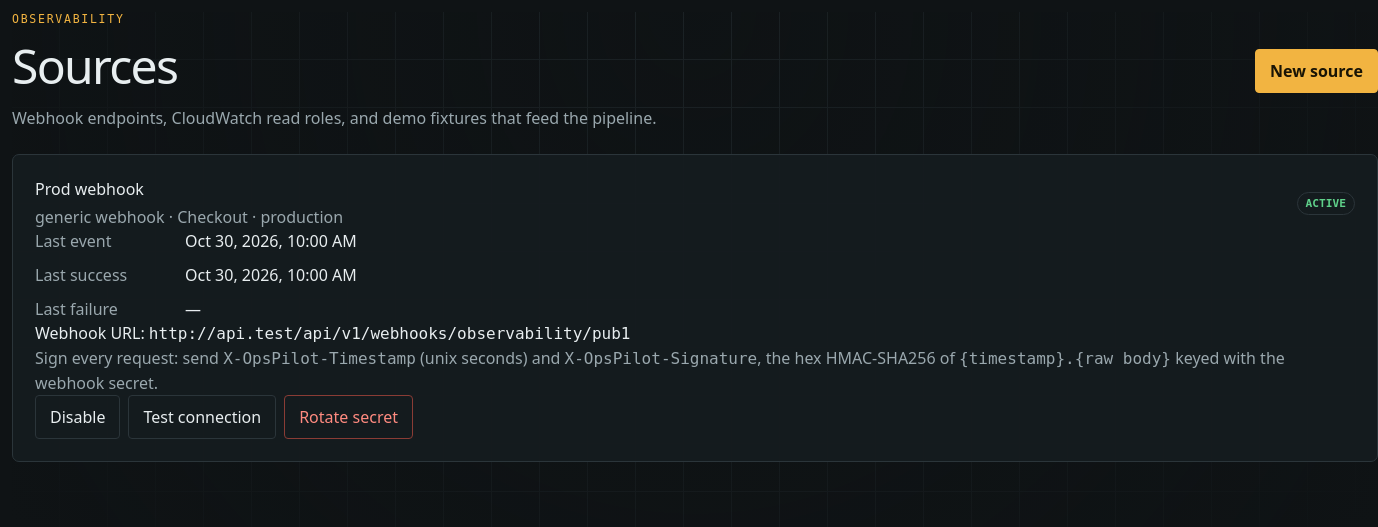
Test: source management › shows ok connectivity result
Click the button "Test connection".
click(202, 417)  # box x1=128 y1=395 x2=276 y2=439
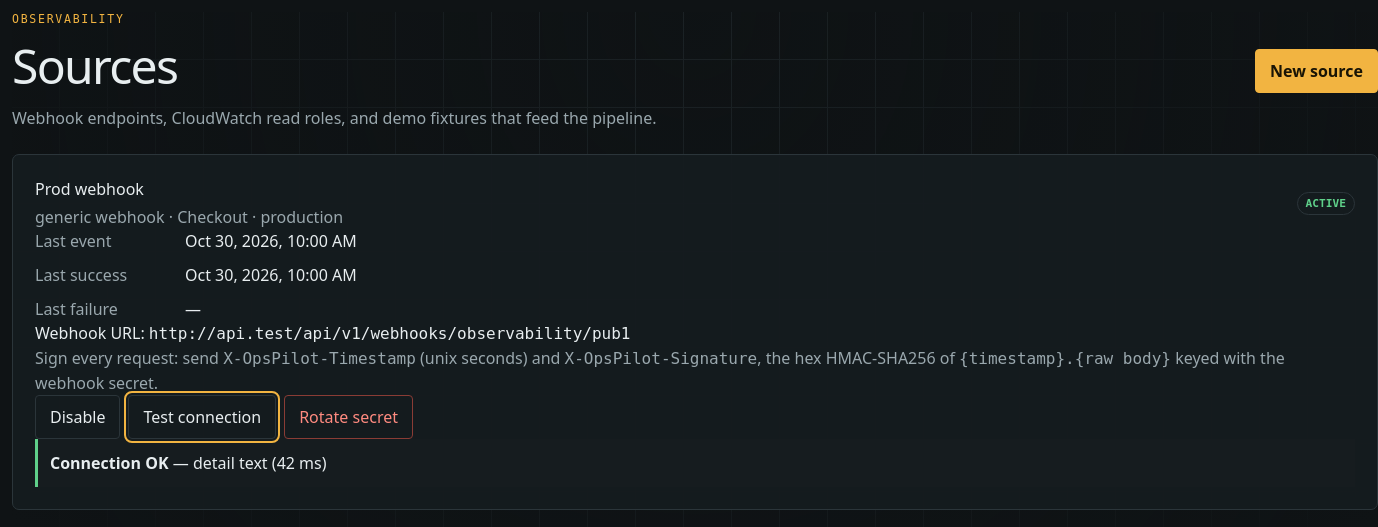
Expected: the text "Connection OK" is shown, x1=50 y1=452 x2=169 y2=474
Expected: the text "Connection OK — detail text (42 ms)" is shown, x1=35 y1=439 x2=1355 y2=487
